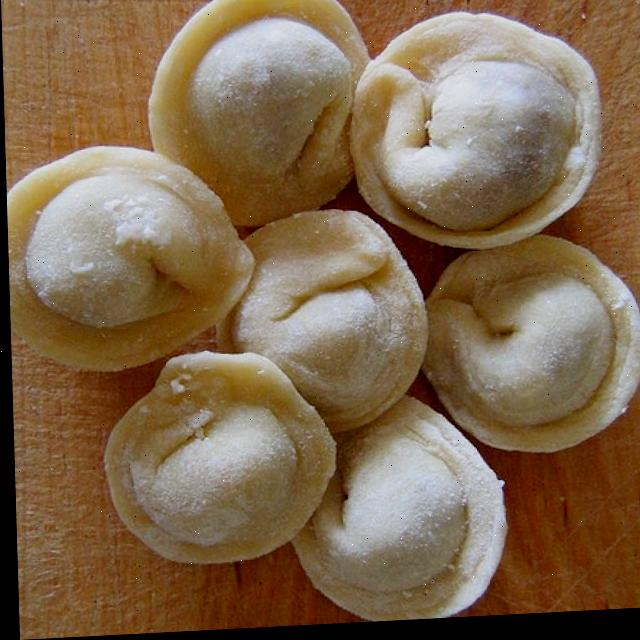带馅早点: (0, 0, 640, 626)
